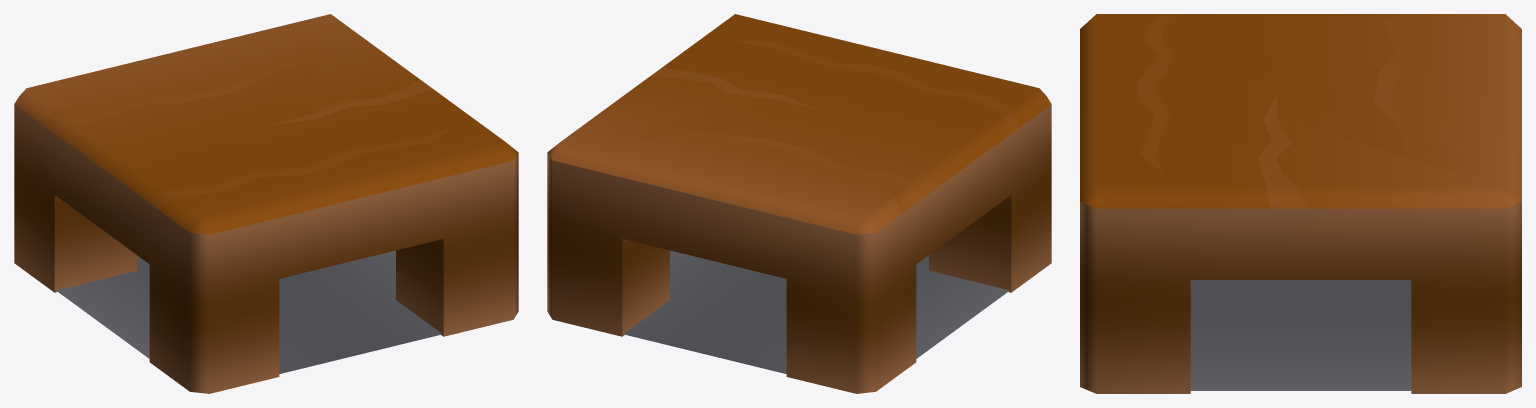
File: Station Table 01.fbx
The picture shows the model from 3 angles, left to right: view 1: azimuth 30°, elevation 25°; view 2: azimuth 150°, elevation 25°; view 3: azimuth 270°, elevation 25°; orthographic projection. The views are drawn at different scales.
Visible parts, largest first — view 1: Station_Table_Base_01; view 2: Station_Table_Base_01; view 3: Station_Table_Base_01.
Part boxes in pixels (left/top/right/bottom): Station_Table_Base_01: left=14, top=14, right=518, bottom=393; Station_Table_Base_01: left=547, top=14, right=1051, bottom=393; Station_Table_Base_01: left=1080, top=14, right=1521, bottom=393.
Size of the model in its own units: 200 by 100 by 200.
